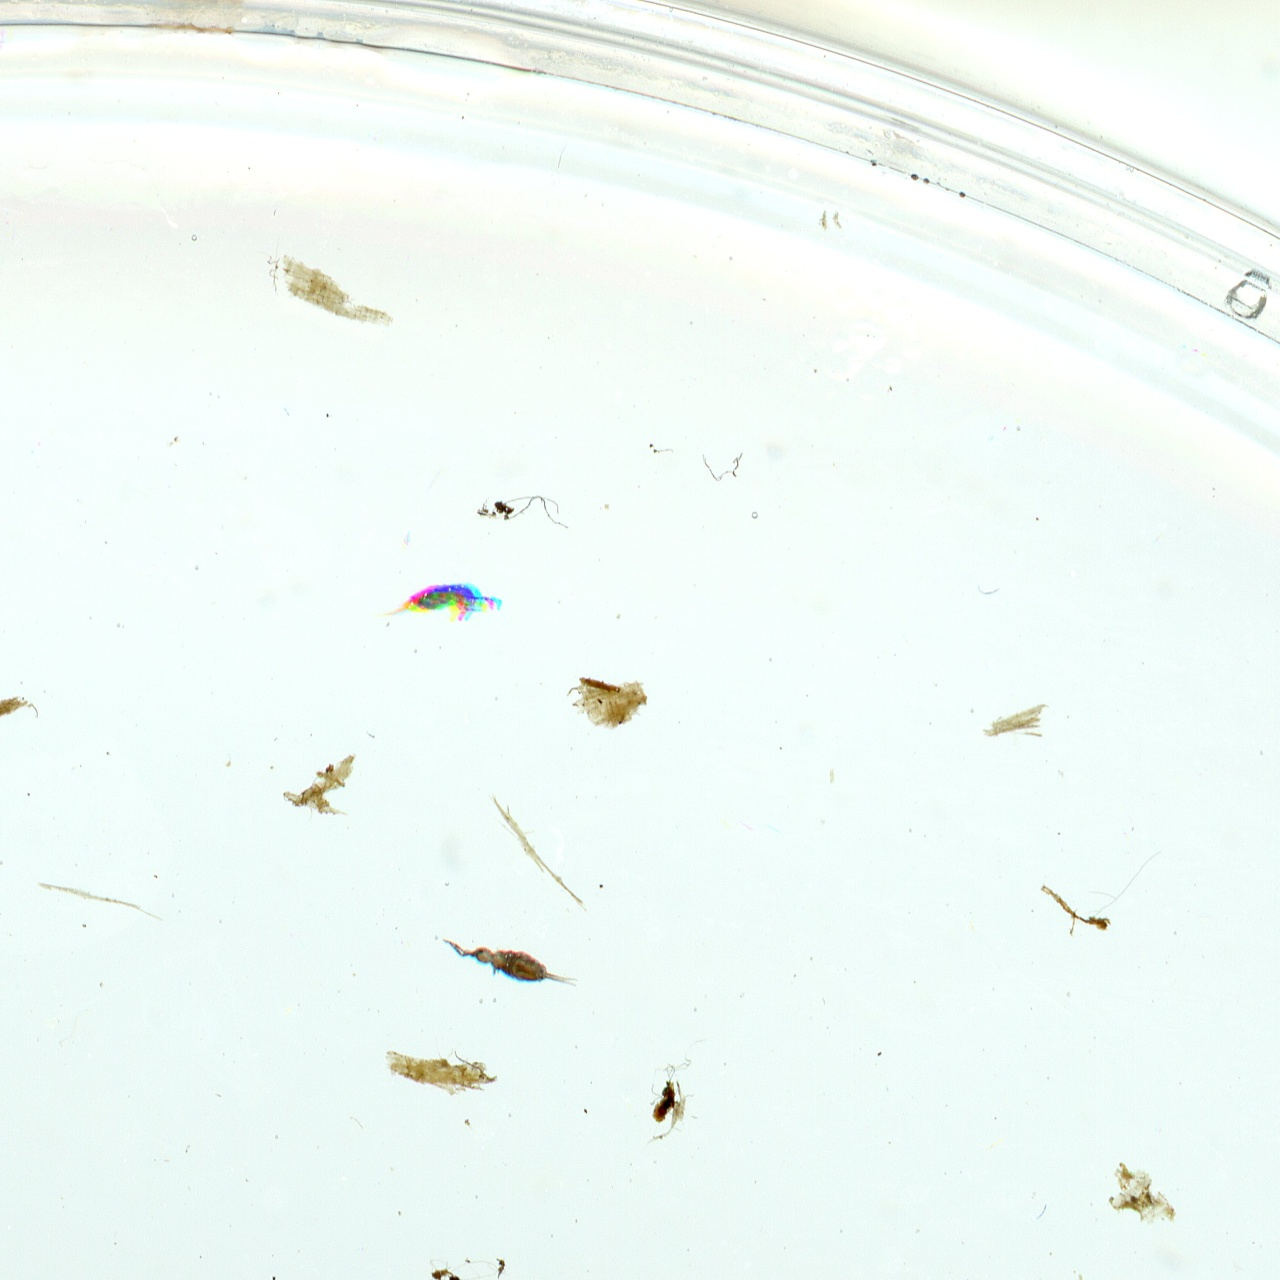arthropod: (432, 927, 589, 1002), (368, 576, 508, 625)
